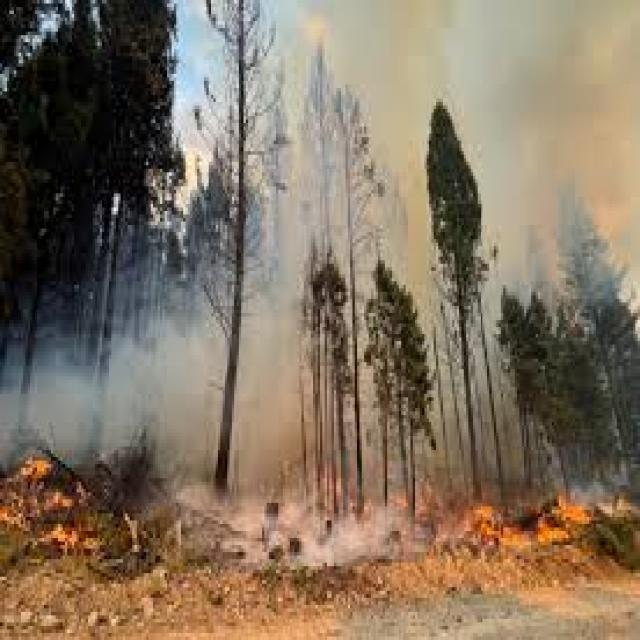Fire: (0, 438, 112, 581), (470, 485, 594, 566)
Smoke: (0, 316, 303, 502), (501, 3, 640, 234), (330, 0, 640, 101), (228, 500, 408, 573)
